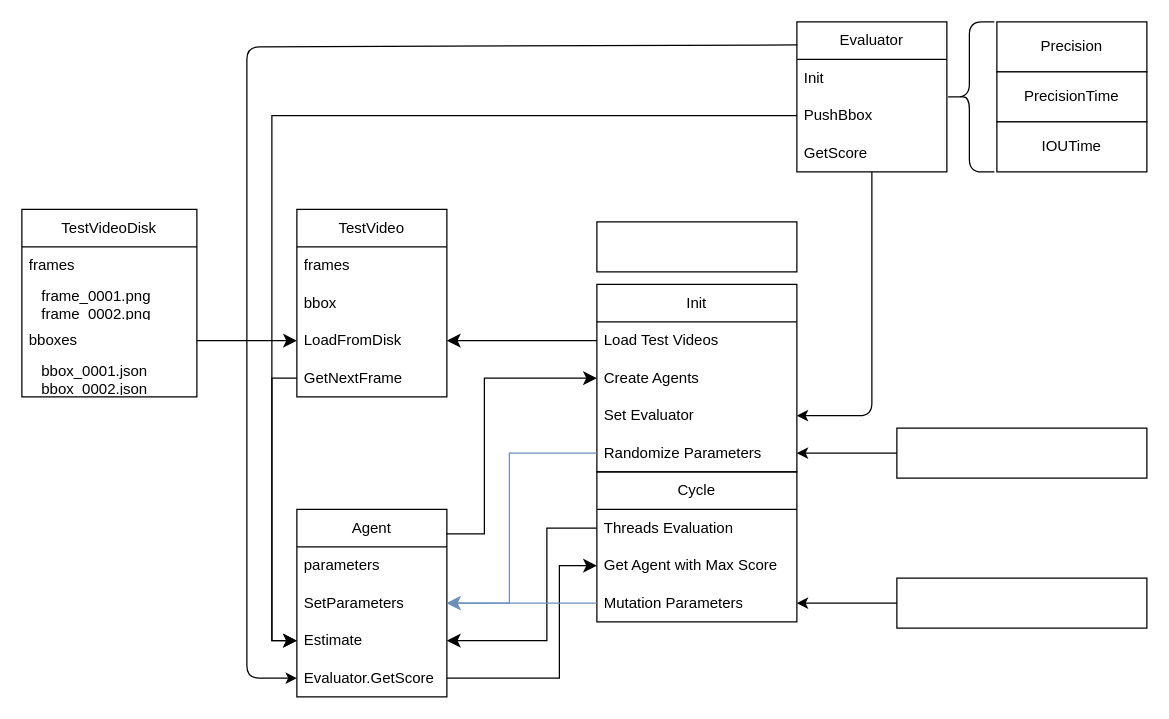
The diagram is 1169 pixels wide and 719 high, and some of its shapes have lost their labels. The shapes that lost their labels are listed below. From the top down, each one's centre as x and y in pixels, then its label:
point (696, 246): Environment
point (1021, 452): RandomParametersGenerator
point (1021, 602): MutationParametersGenerator
